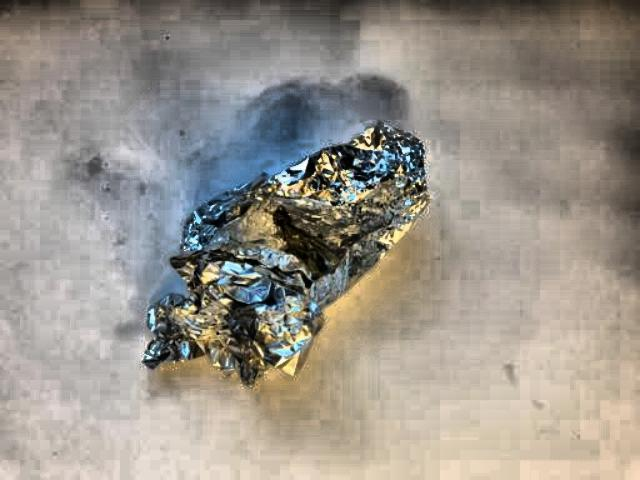Almennt: (122, 120, 436, 416)
